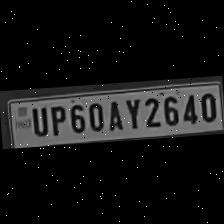0: (84, 98, 106, 132), (197, 89, 217, 122)
2: (140, 94, 160, 129)
4: (178, 90, 198, 124)
6: (66, 100, 86, 134), (159, 93, 179, 127)
A: (103, 96, 123, 132)
P: (47, 102, 66, 136)
U: (26, 104, 46, 137)
Y: (121, 95, 141, 130)
